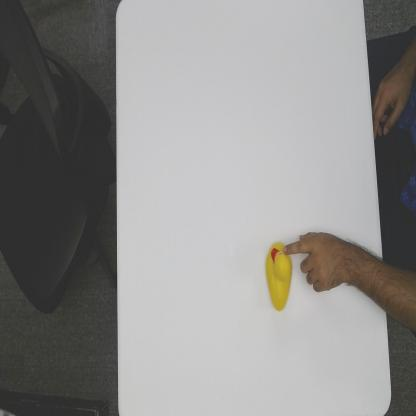Arm: (349, 244, 384, 305)
Duck: (264, 240, 292, 312)
Hand: (284, 232, 351, 296)
